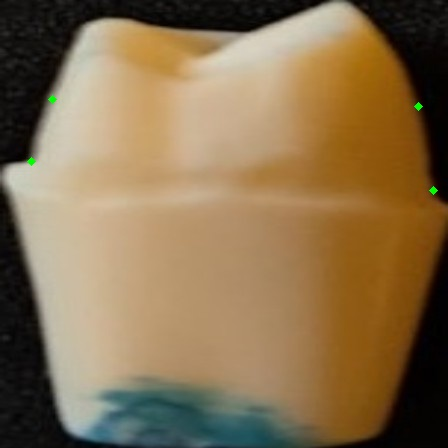coin_1: (433, 190, 448, 210)
coin_2: (418, 106, 438, 126)
coin_3: (31, 161, 51, 181)
coin_4: (52, 99, 72, 119)
